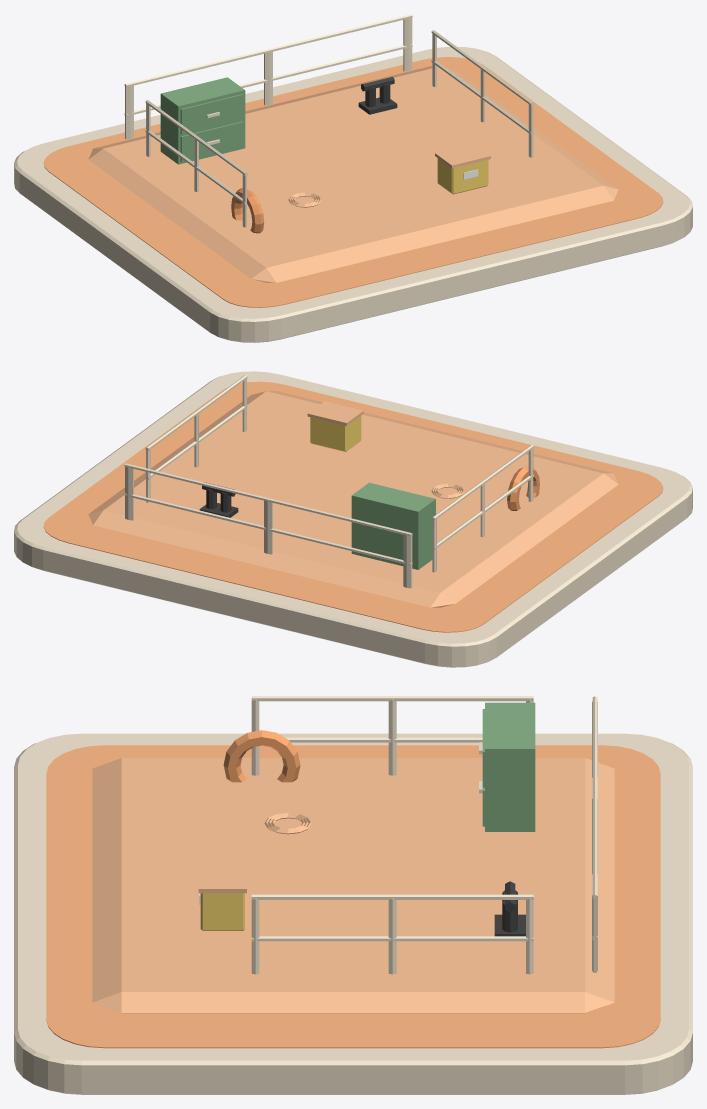
3 renders of one model, top to bottom at view 1: azimuth 30°, elevation 25°; view 2: azimuth 150°, elevation 25°; view 3: azimuth 270°, elevation 25°, orthographic. The views are drawn at different scales.
Visible parts, largest first — view 1: Deck, COM-01 Rounded Base Direct, COM-02 Floor Surface, Cabinet, Box, Rail.005, Lid, Rail.004, Life ring, Rail.003, Rail.001, Rail.002 (+2 smaller); view 2: Deck, COM-01 Rounded Base Direct, COM-02 Floor Surface, Cabinet, Box, Rail.005, Rail.004, Lid, Life ring, Rail.001, Rail.003, Rail (+4 smaller); view 3: Deck, COM-01 Rounded Base Direct, COM-02 Floor Surface, Cabinet, Life ring, Box, Rail.003, Rail.001, Rail.002, Lid, Rail.005, Rail (+3 smaller).
Boxes of the visible parts, x1,y1,x2,y2 form: Deck: (88,66,618,282); COM-01 Rounded Base Direct: (14,46,692,342); COM-02 Floor Surface: (43,57,663,307); Cabinet: (160,77,245,164); Box: (437,158,488,194); Rail.005: (124,14,412,87); Lid: (435,143,490,168); Rail.004: (124,44,412,116); Life ring: (231,188,264,233); Rail.003: (431,30,533,105); Rail.001: (145,100,247,175); Rail.002: (431,60,533,135); Deck: (88,391,618,607); COM-01 Rounded Base Direct: (14,371,692,667); COM-02 Floor Surface: (43,381,663,632); Cabinet: (351,482,435,569); Box: (310,416,361,451); Rail.005: (124,463,412,536); Rail.004: (124,493,412,565); Lid: (307,401,363,425); Life ring: (507,465,539,510); Rail.001: (431,444,533,520); Rail.003: (145,375,247,450); Rail: (431,475,533,549); Deck: (92,758,614,1013); COM-01 Rounded Base Direct: (14,733,692,1094); COM-02 Floor Surface: (46,745,660,1048); Cabinet: (479,702,535,831); Life ring: (223,730,300,782); Box: (200,893,244,930); Rail.003: (251,894,533,899); Rail.001: (251,696,533,701); Rail.002: (251,936,533,941); Lid: (198,862,246,893); Rail.005: (592,696,597,899); Rail: (285,737,482,742).
Size of the model in its own units: 6 by 1.18 by 5.2.
1 material, 1 textured.
